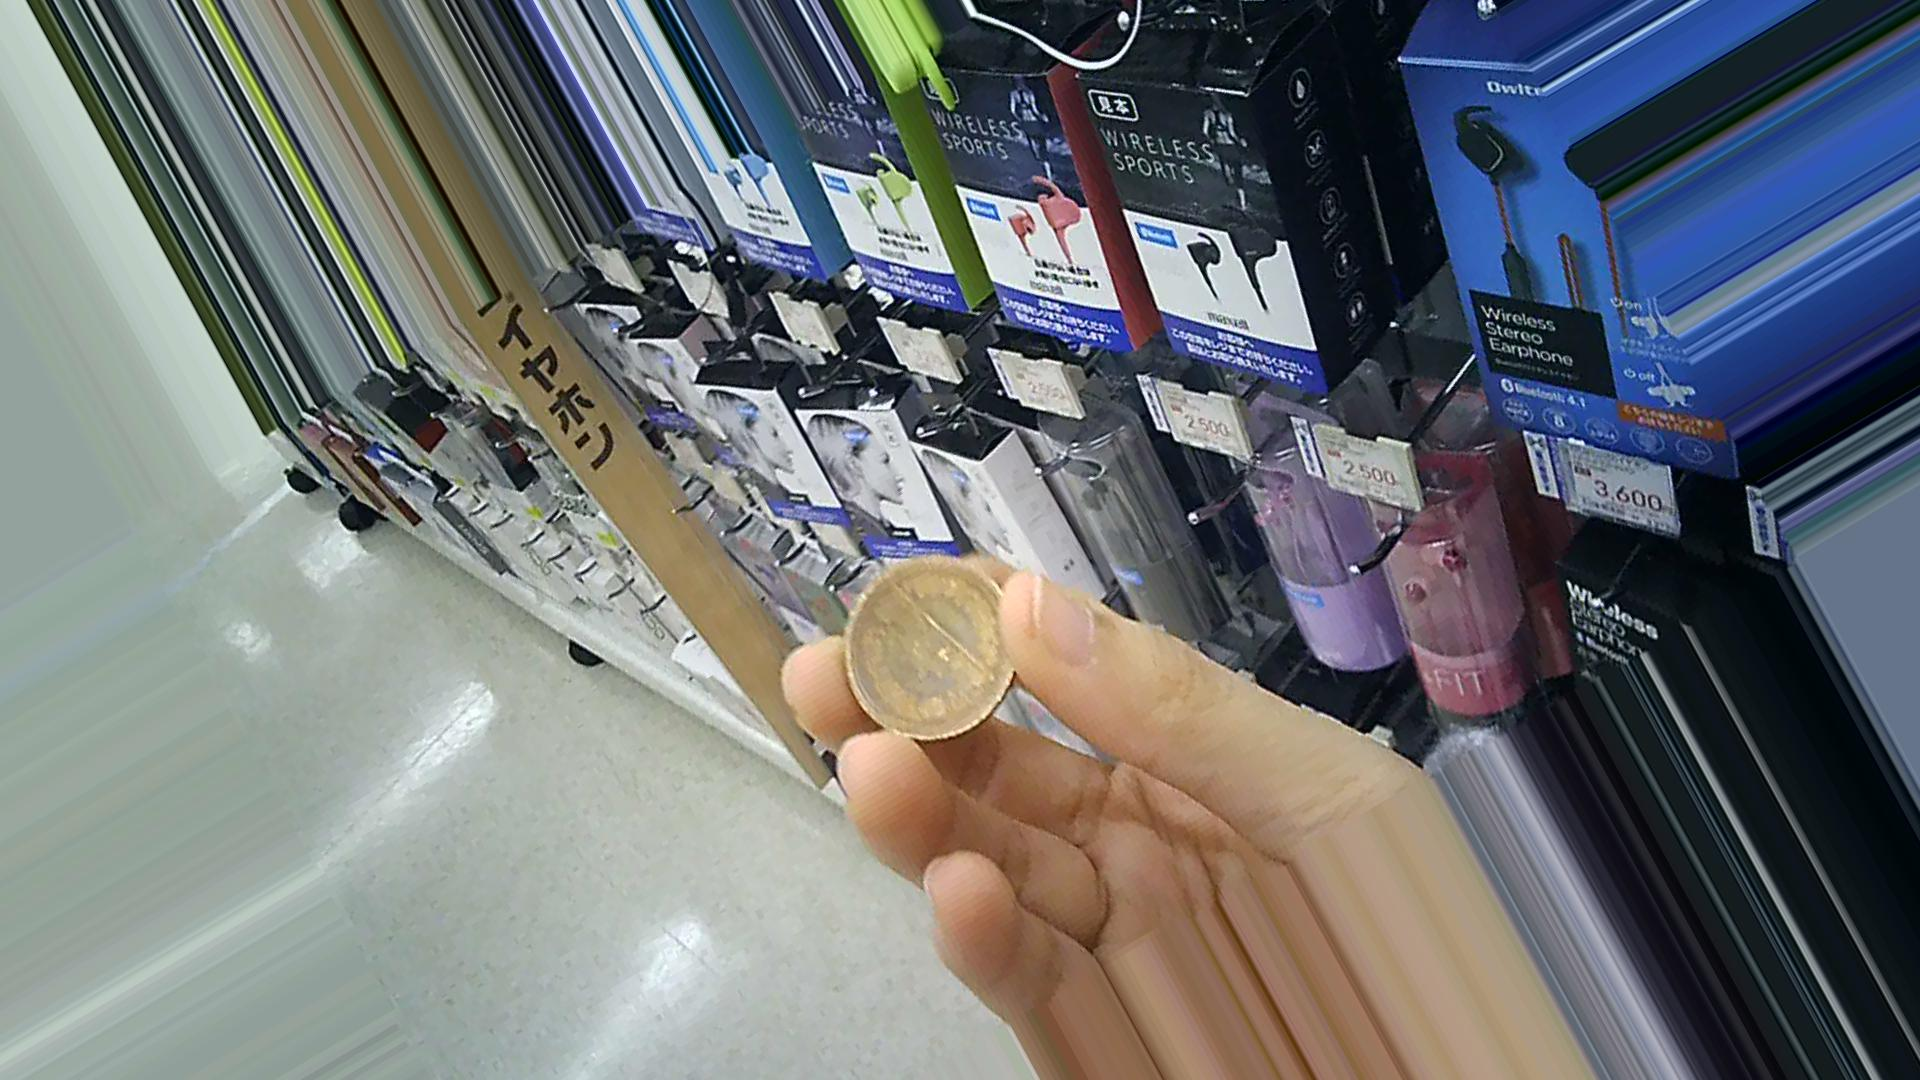10 Yen: (835, 560, 1029, 745)
